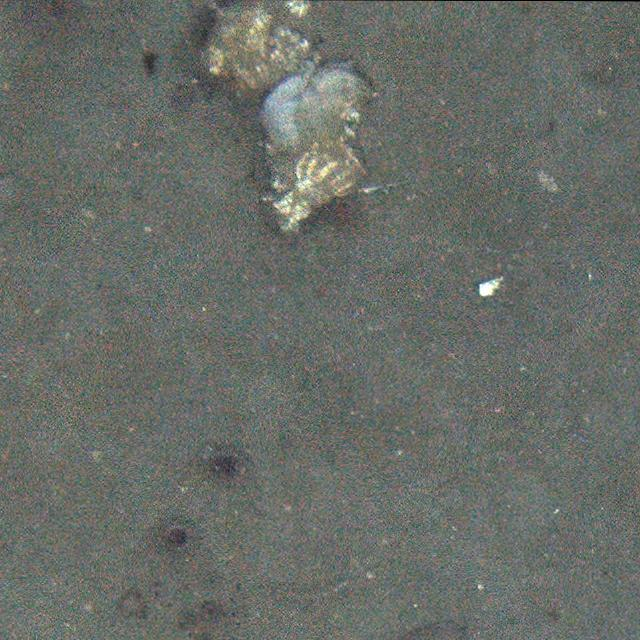whelk: (270, 136, 367, 224)
